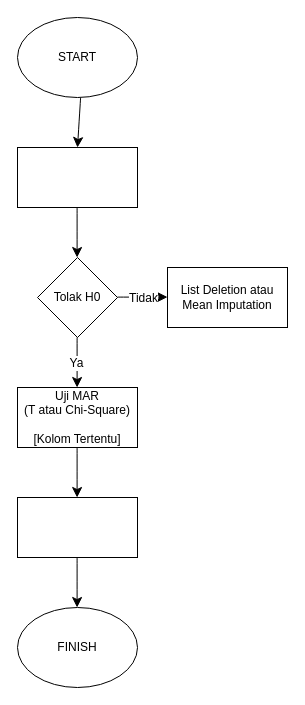
The diagram is 305 pixels wide and 705 high, and some of its shapes have lost their labels. Here are the shapes that lost their labels. From the top down, the box of each, then its label:
(16, 146, 138, 208): Litte's MCAR Test [Seluruh Dataset]
(16, 496, 138, 558): MICE Imputation
